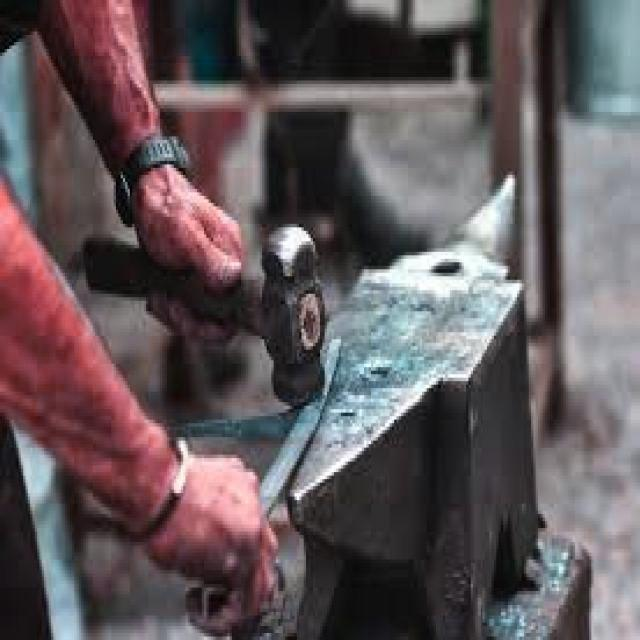hammer: (78, 204, 346, 414)
